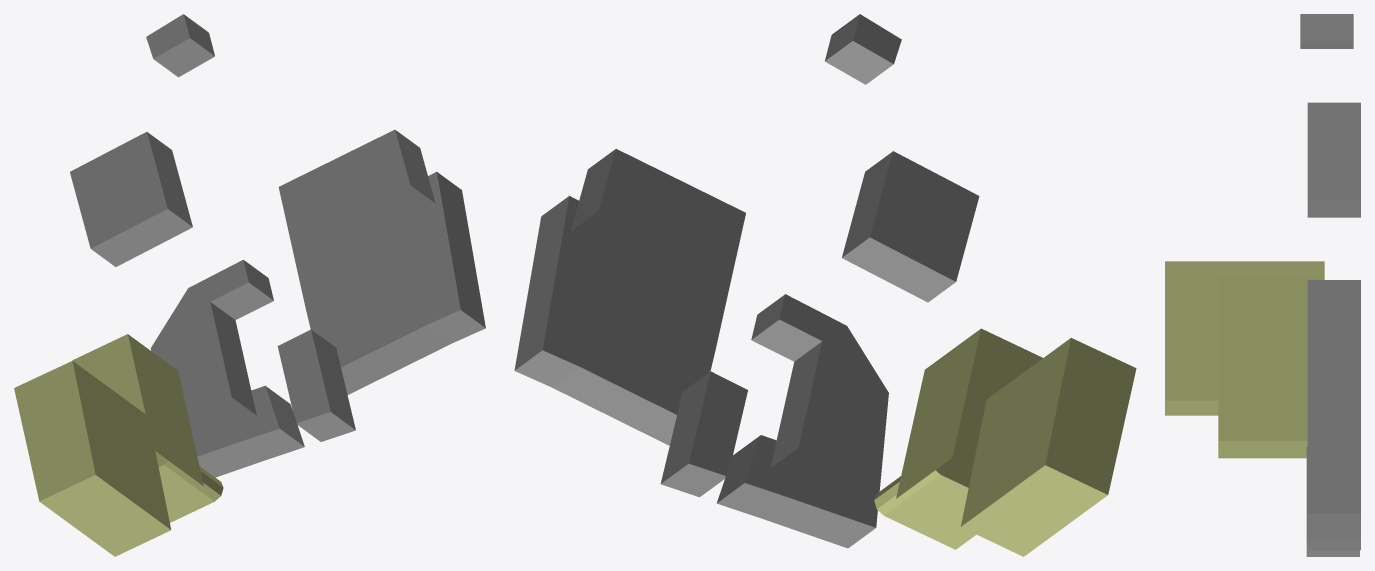
The picture shows the model from 3 angles, left to right: view 1: azimuth 30°, elevation 25°; view 2: azimuth 150°, elevation 25°; view 3: azimuth 270°, elevation 25°; orthographic projection. The views are drawn at different scales.
Visible parts, largest first — view 1: 0_1_2_0_0_2_2_1_3; view 2: 0_1_2_0_0_2_2_1_3; view 3: 0_1_2_0_0_2_2_1_3.
Boxes of the visible parts, x1,y1,x2,y2 form: 0_1_2_0_0_2_2_1_3: [14, 14, 485, 556]; 0_1_2_0_0_2_2_1_3: [514, 14, 1136, 556]; 0_1_2_0_0_2_2_1_3: [1165, 14, 1360, 556].
Size of the model in its own units: 31.85 by 29.72 by 11.04.
